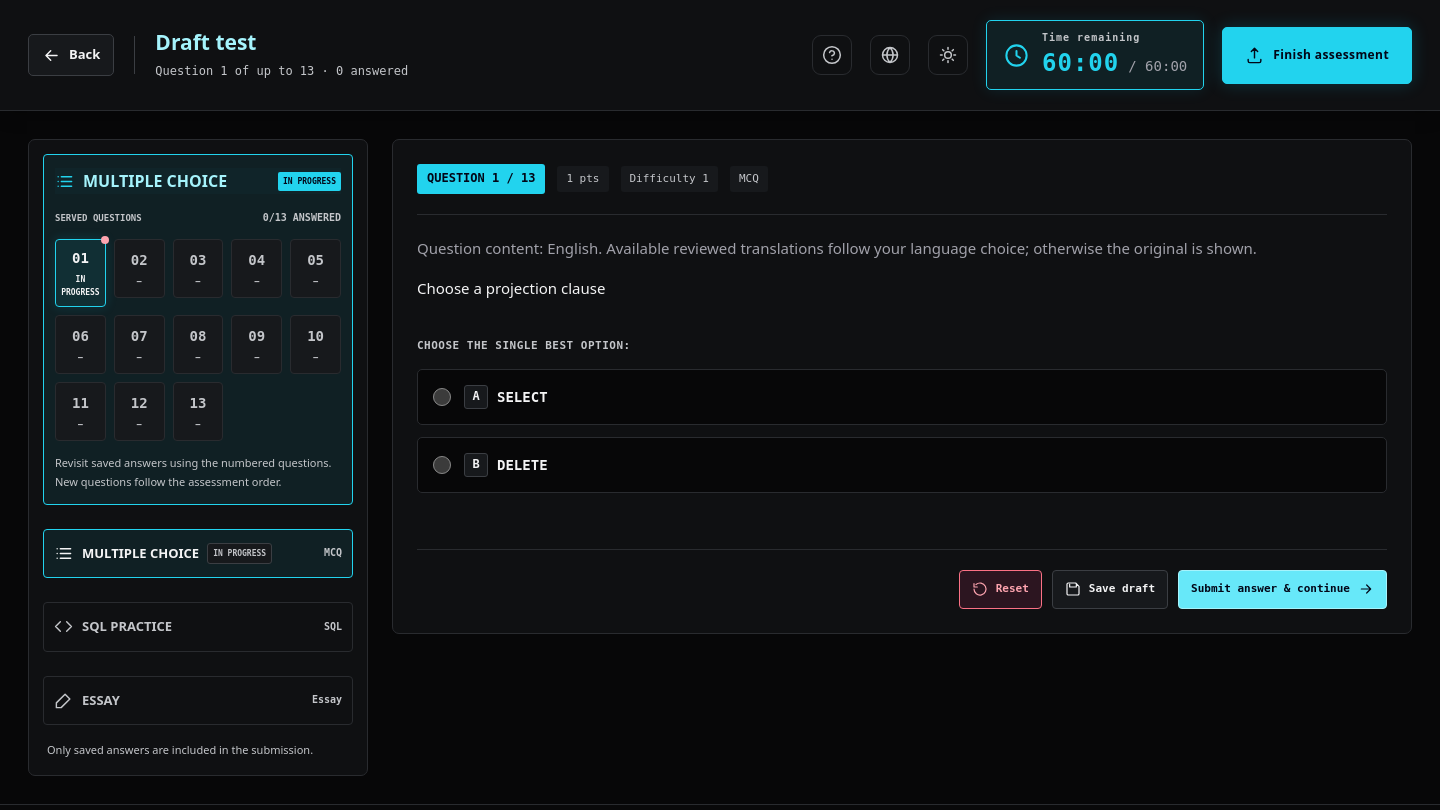
autosaves an ungraded draft and displays save completion
Click the text "SELECT".
click(522, 397)  # box x1=497 y1=385 x2=548 y2=409
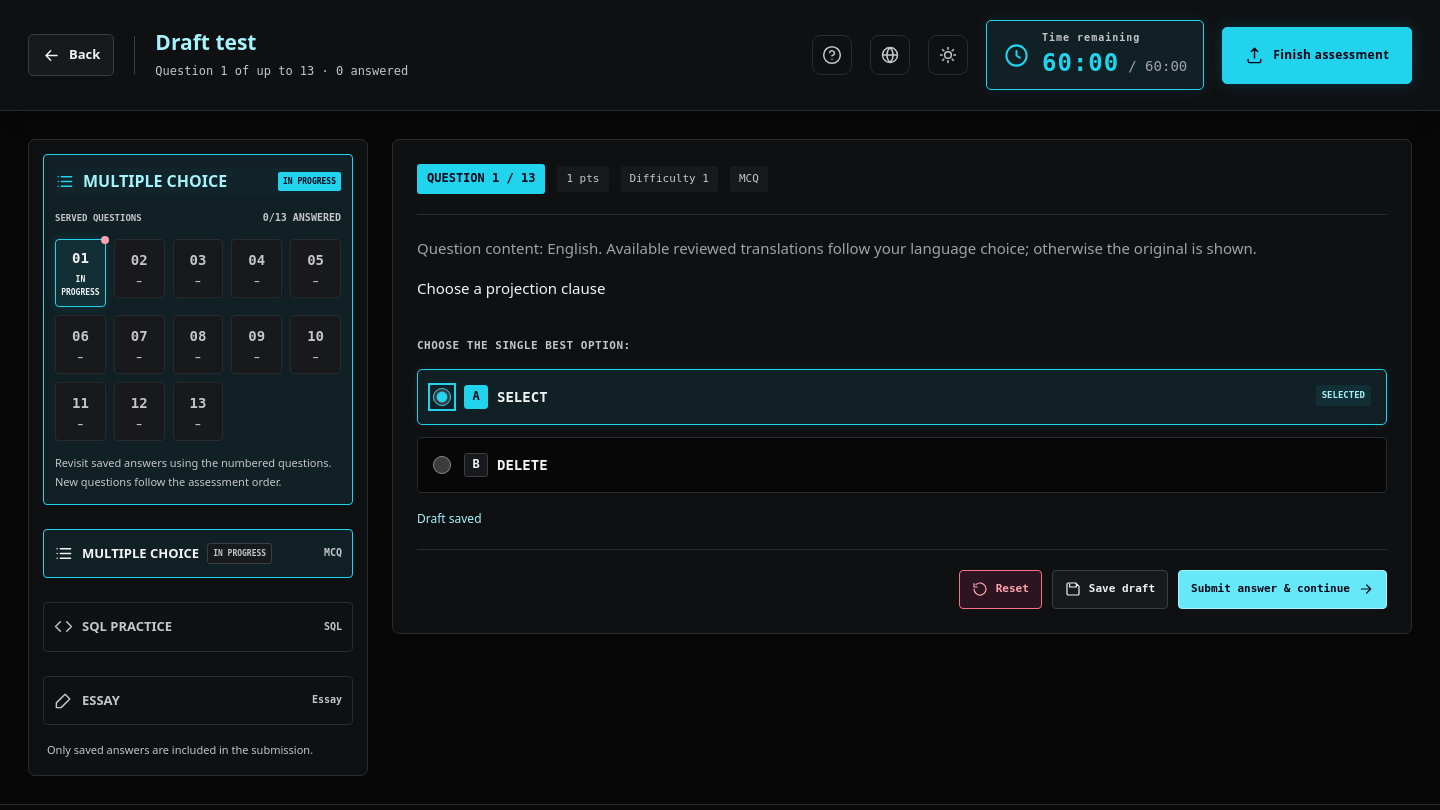
Expected: the text "Draft saved" is shown, x1=417 y1=510 x2=482 y2=527
